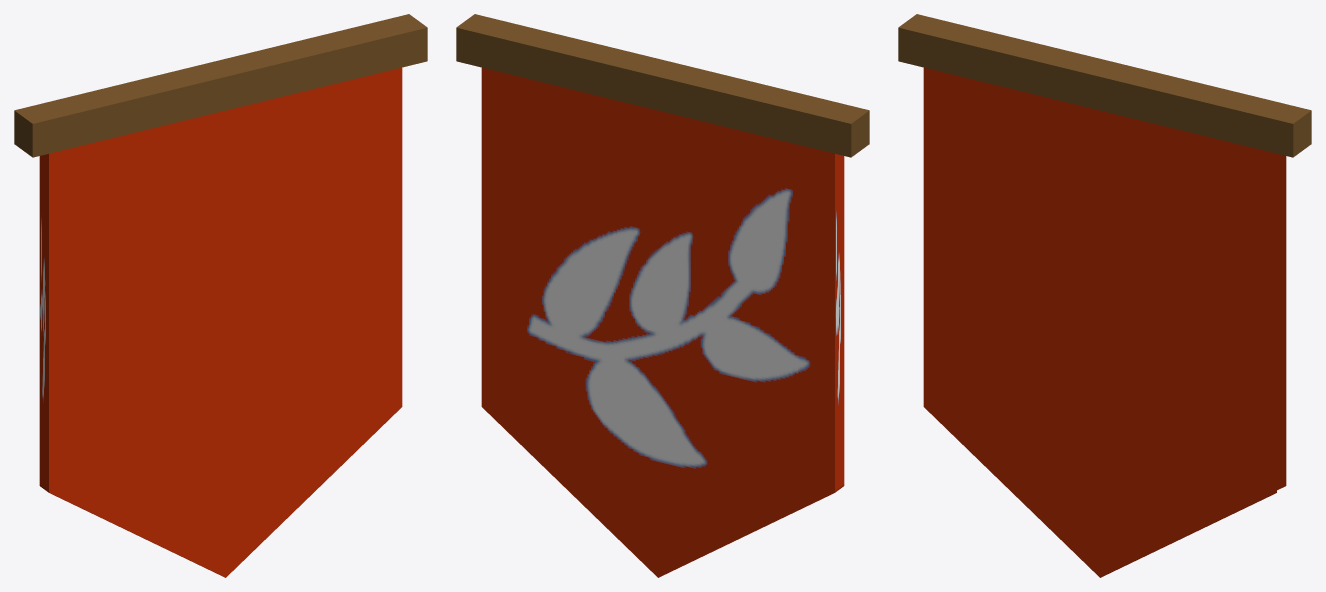
File: envoy_flag.fbx
3 views of the same model, side by side, from view 1: azimuth 30°, elevation 25°; view 2: azimuth 150°, elevation 25°; view 3: azimuth 330°, elevation 25° (orthographic).
Parts seen in each view (by area): view 1: pCube11; view 2: pCube11; view 3: pCube11.
Part boxes in pixels (x1,y1,x2,y2): pCube11: (14,14,427,577); pCube11: (456,14,869,577); pCube11: (898,14,1311,577).
Bounding box in the file's own units: 25.03 × 30.62 × 2.04.
Materials: 1 (1 with a texture image).
